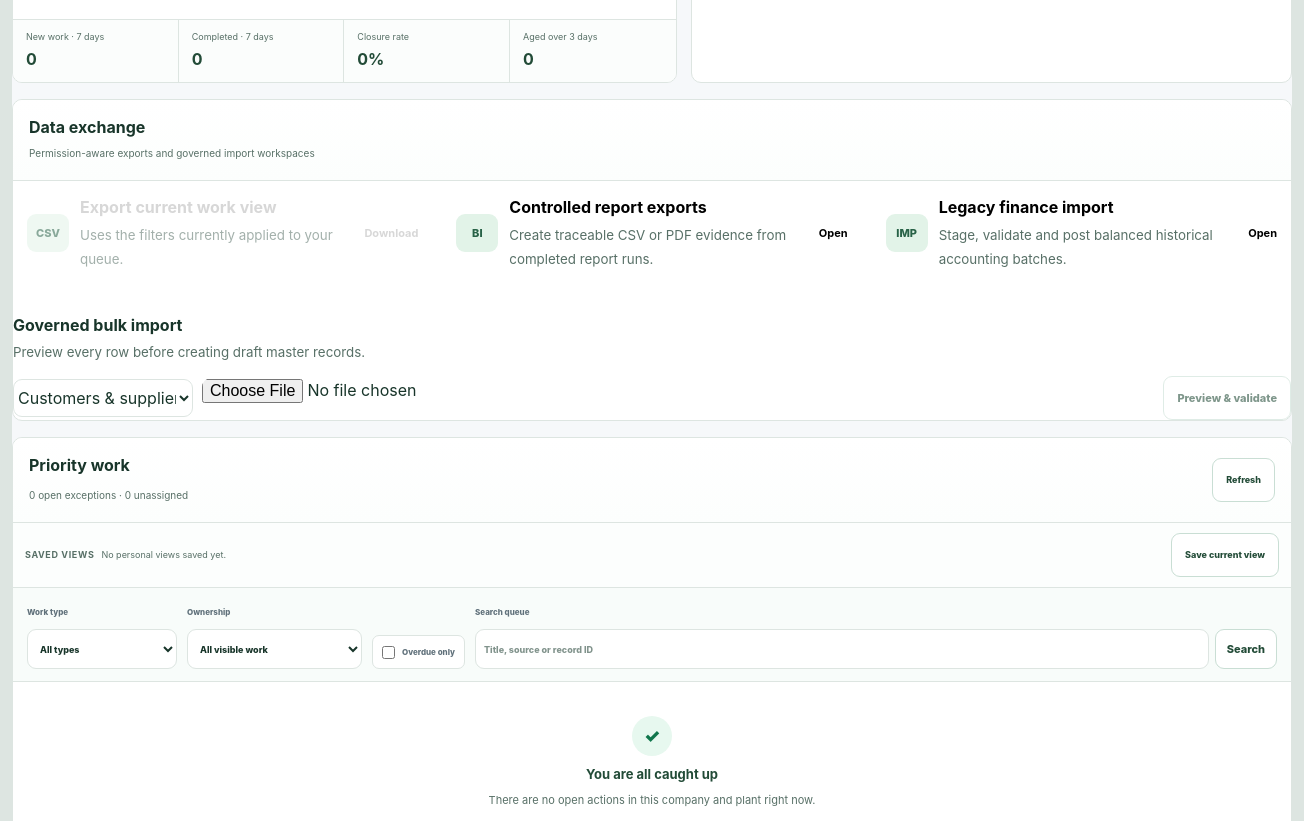
Scenario: WRK_HOME › saves and reapplies a personal work-queue view
The image size is (1304, 821).
(page scrolled)
Expected: the text "You are all caught up" is shown, [586,762,718,786]
Select "Assigned to me" in the dropdown labelled "Ownership" at (274, 649), box [187,629,362,669]
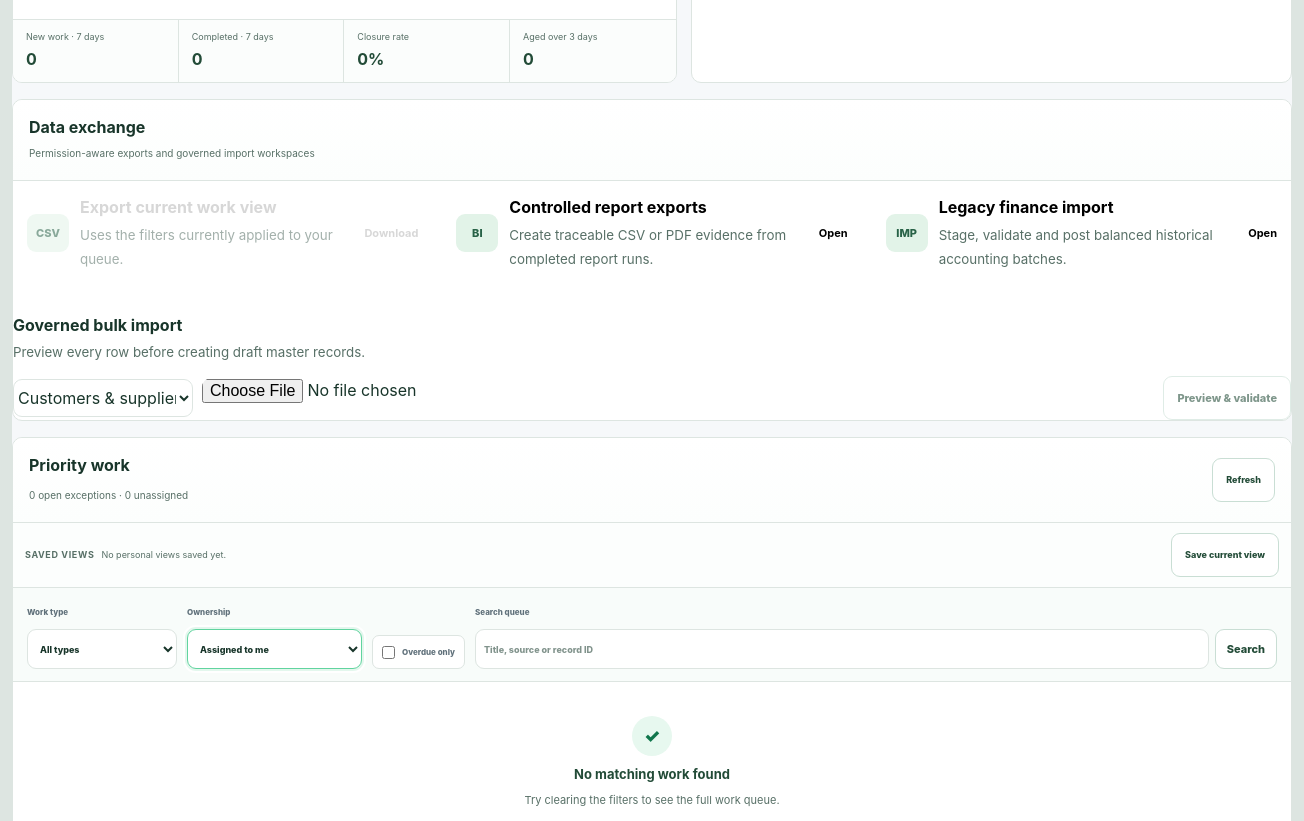
Click the button "Save current view".
click(1225, 555)  # box [1171,533,1279,577]
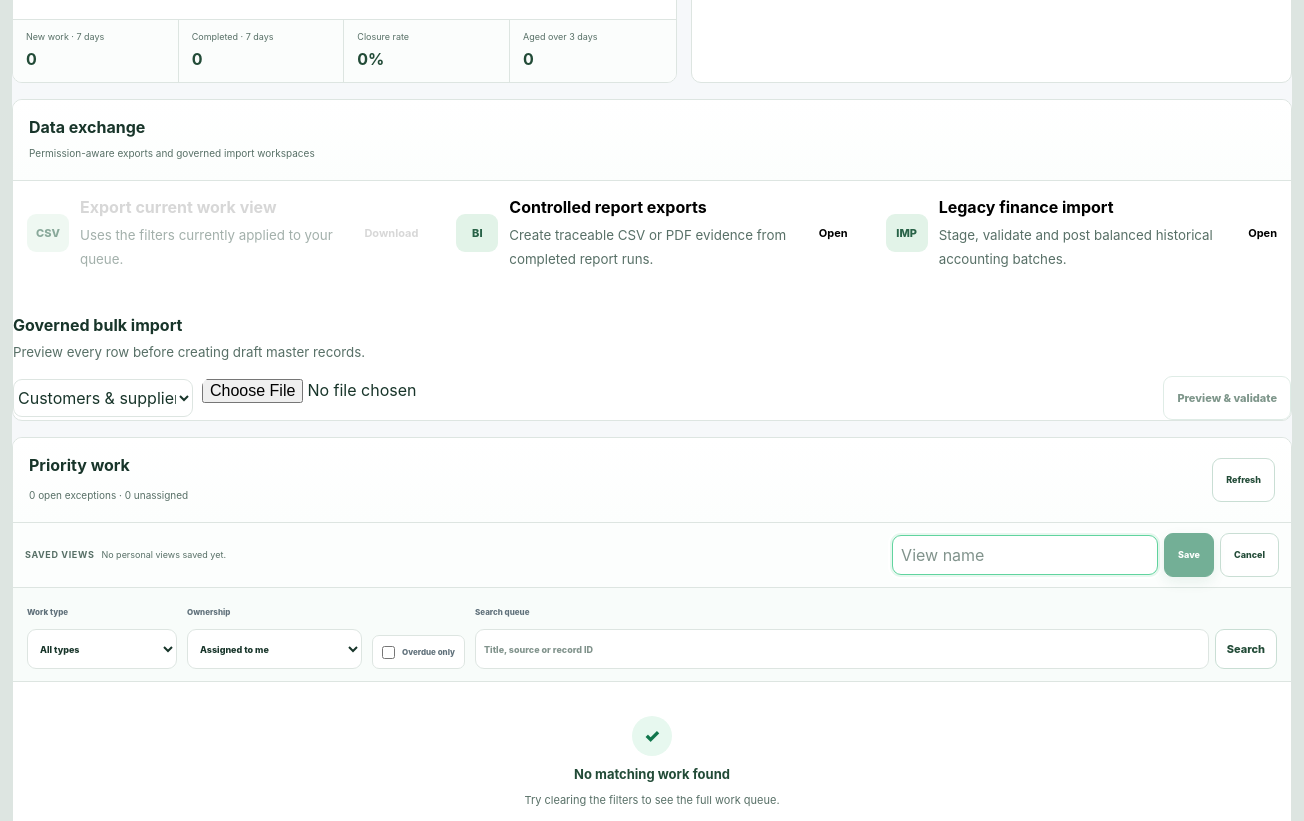
Type "My actions" into the field named "Saved view name".
click(1025, 555); type("My actions")  # box [892,535,1158,575]
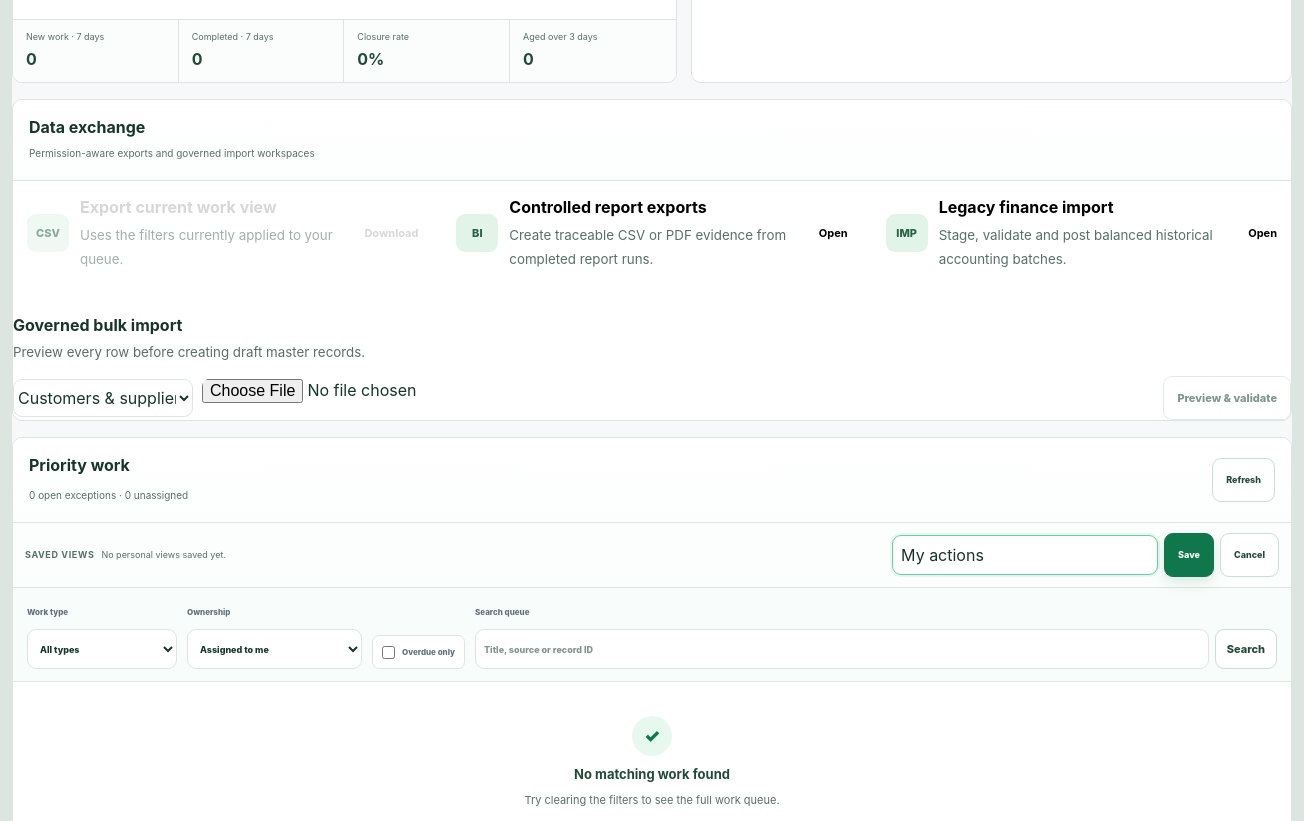
Click the button "Save".
click(1189, 555)  # box [1164,533,1214,577]
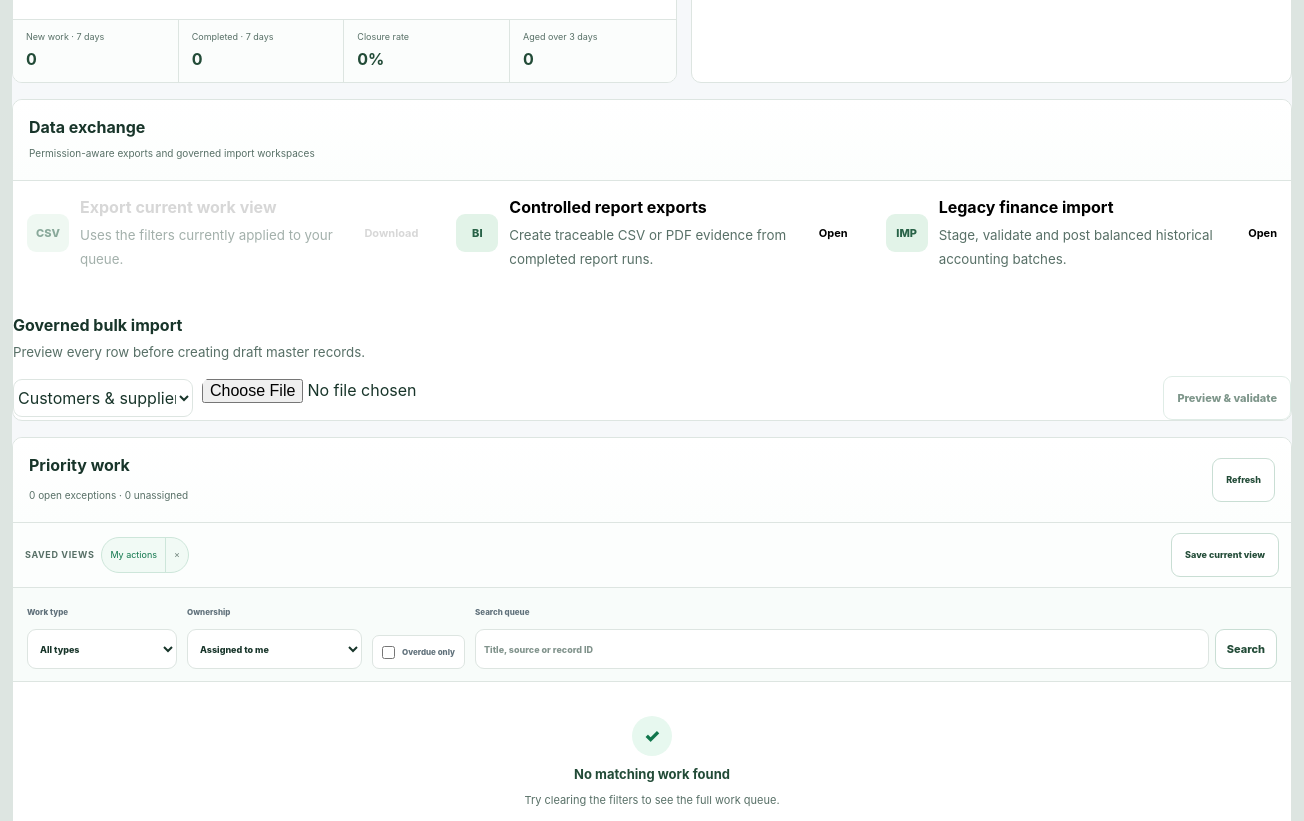
Expected: the button "My actions" is shown, [102,538,165,572]
